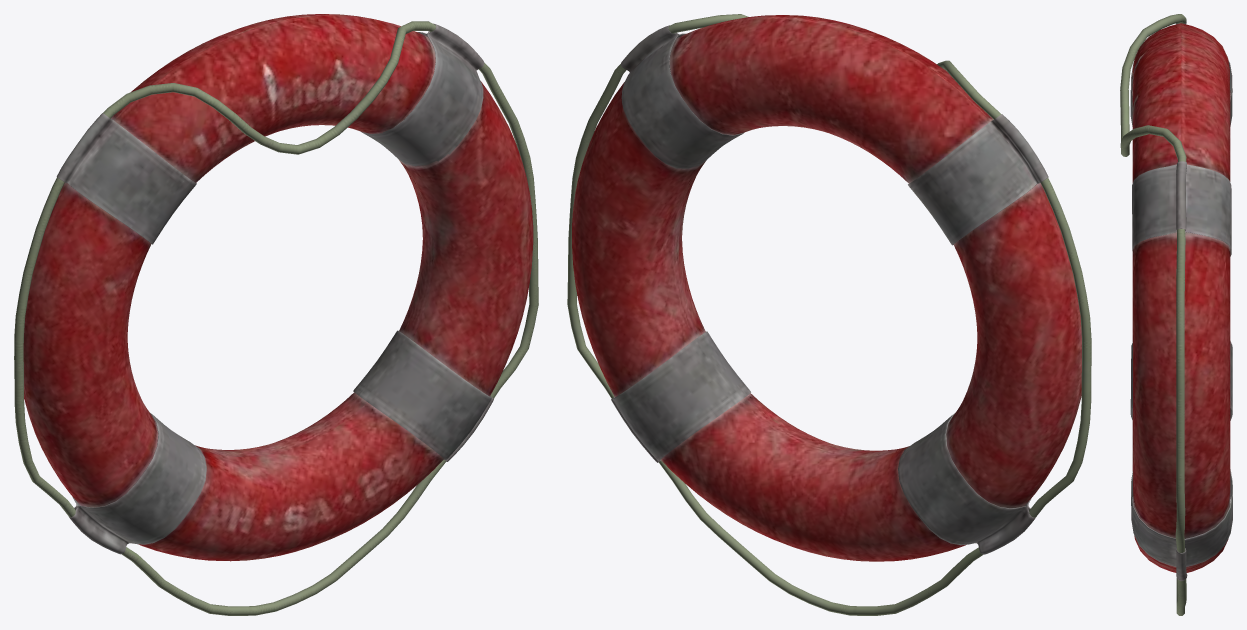
The model's file is lifebuoy.glb.
The picture shows the model from 3 angles, left to right: view 1: azimuth 30°, elevation 25°; view 2: azimuth 150°, elevation 25°; view 3: azimuth 270°, elevation 25°; orthographic projection. The views are drawn at different scales.
Parts seen in each view (by area): view 1: lifebuoy; view 2: lifebuoy; view 3: lifebuoy.
Part boxes in pixels (bbox=[...]): lifebuoy: bbox=[14, 14, 538, 615]; lifebuoy: bbox=[567, 14, 1091, 615]; lifebuoy: bbox=[1120, 14, 1232, 615].
Size of the model in its own units: 0.7832 by 0.8412 by 0.1551.
1 material, 1 textured.
